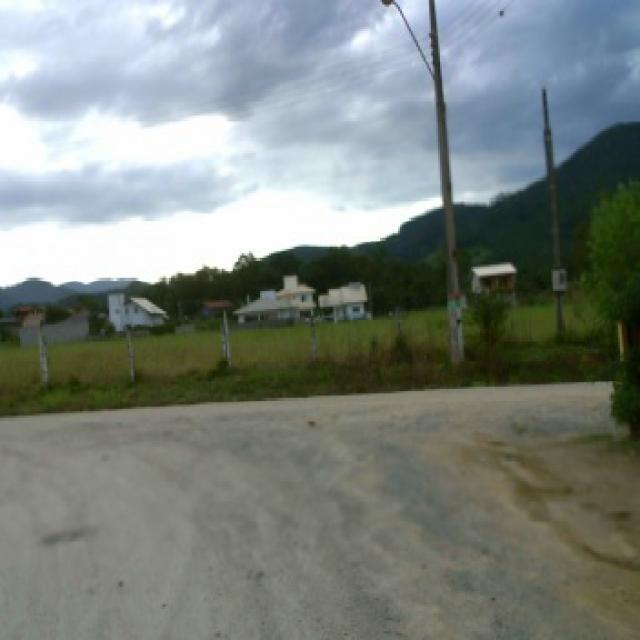Poth-hole: (466, 416, 636, 574), (34, 522, 92, 547)
